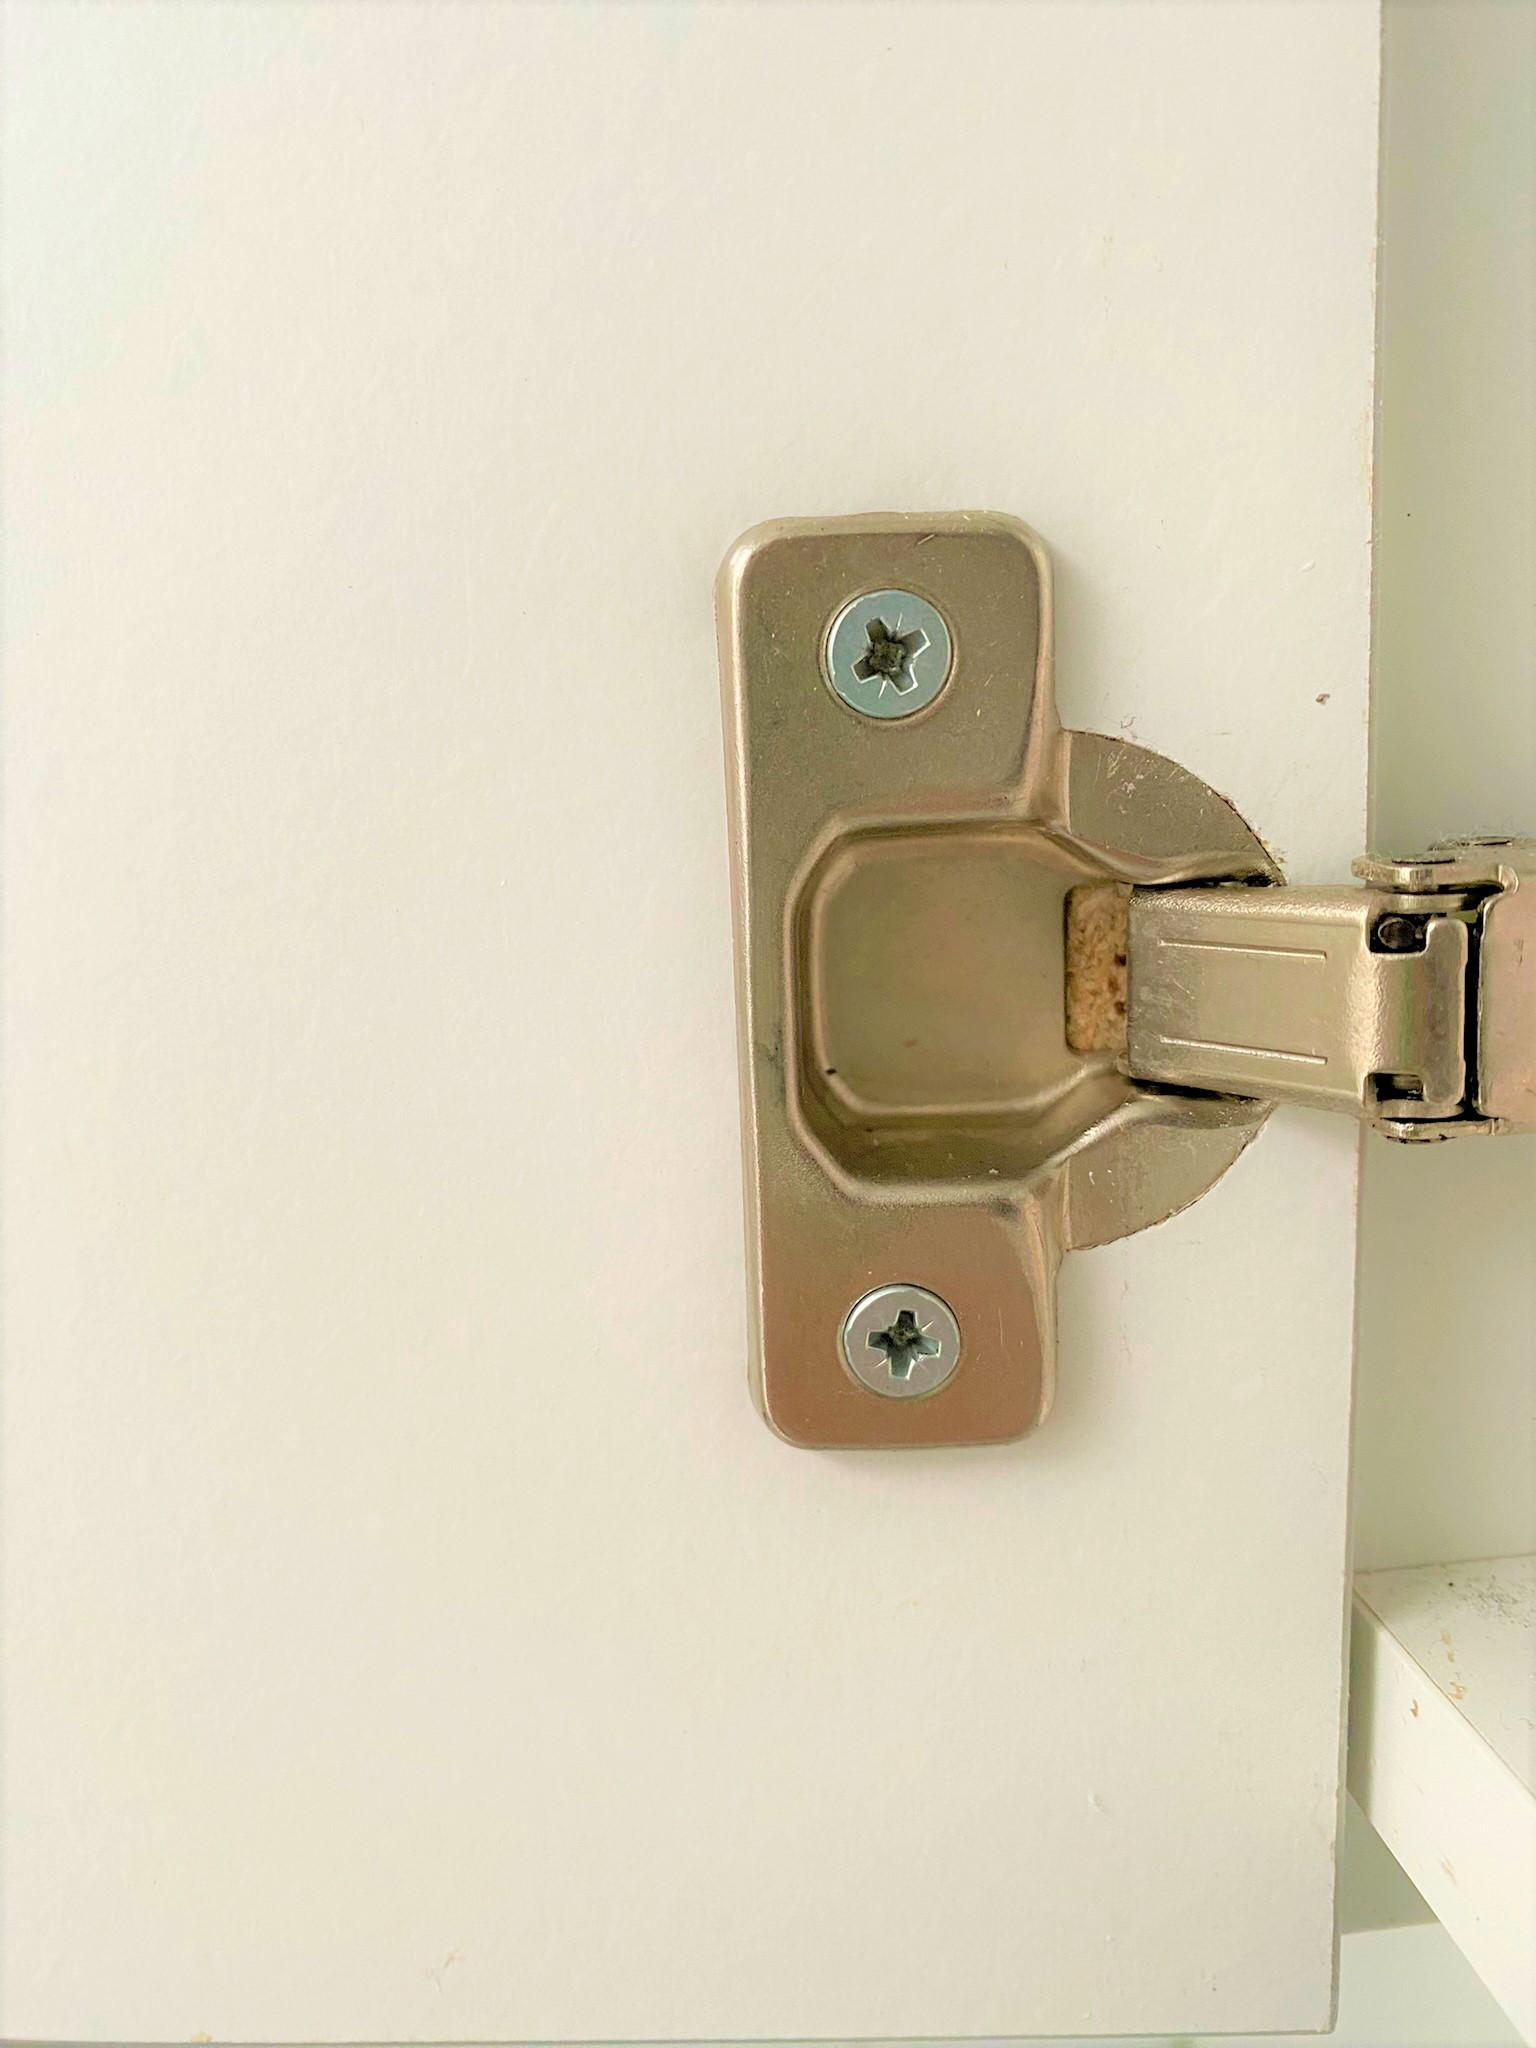PH: (821, 584, 957, 722), (841, 1280, 966, 1406)
